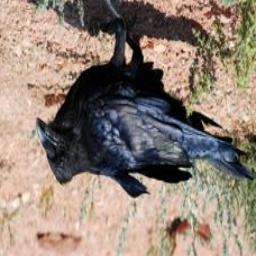Crow: (35, 0, 256, 201)
